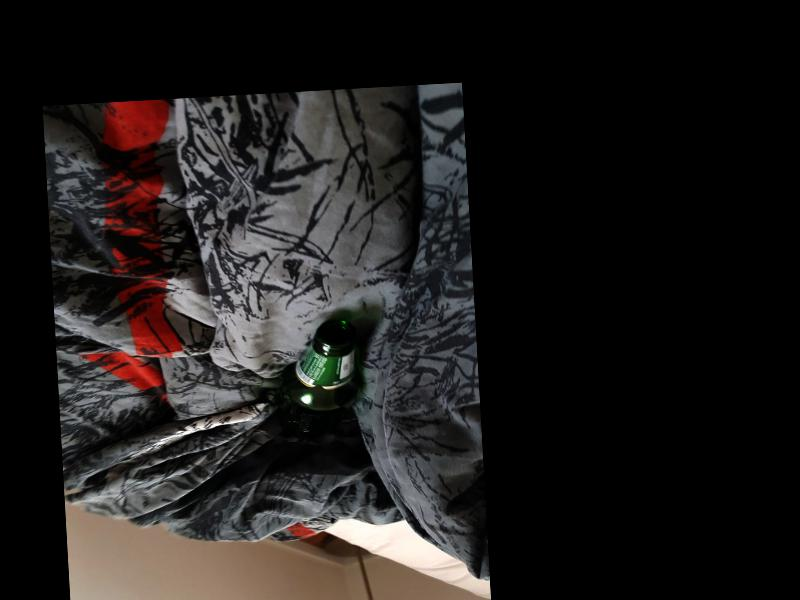Beer: (273, 317, 366, 440)
